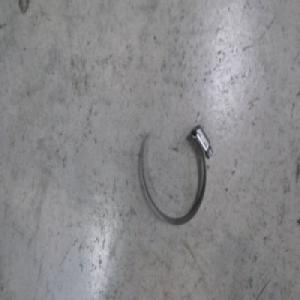AdjustableClamp: (137, 121, 213, 230)
